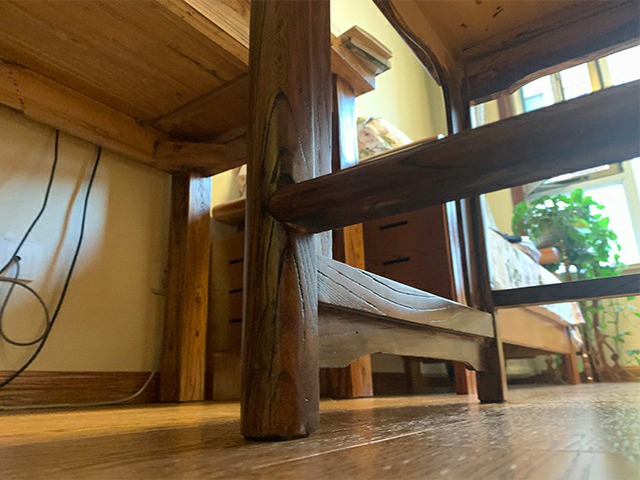sofa: (209, 115, 587, 398)
wire: (1, 124, 157, 417)
